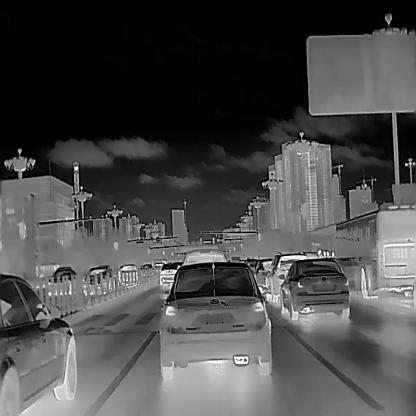bus: (332, 203, 416, 297)
car: (159, 261, 271, 377), (0, 272, 75, 415), (279, 258, 349, 318), (265, 254, 308, 300), (82, 264, 114, 294), (47, 265, 75, 293), (159, 259, 183, 291), (117, 264, 139, 284), (138, 263, 153, 277)
